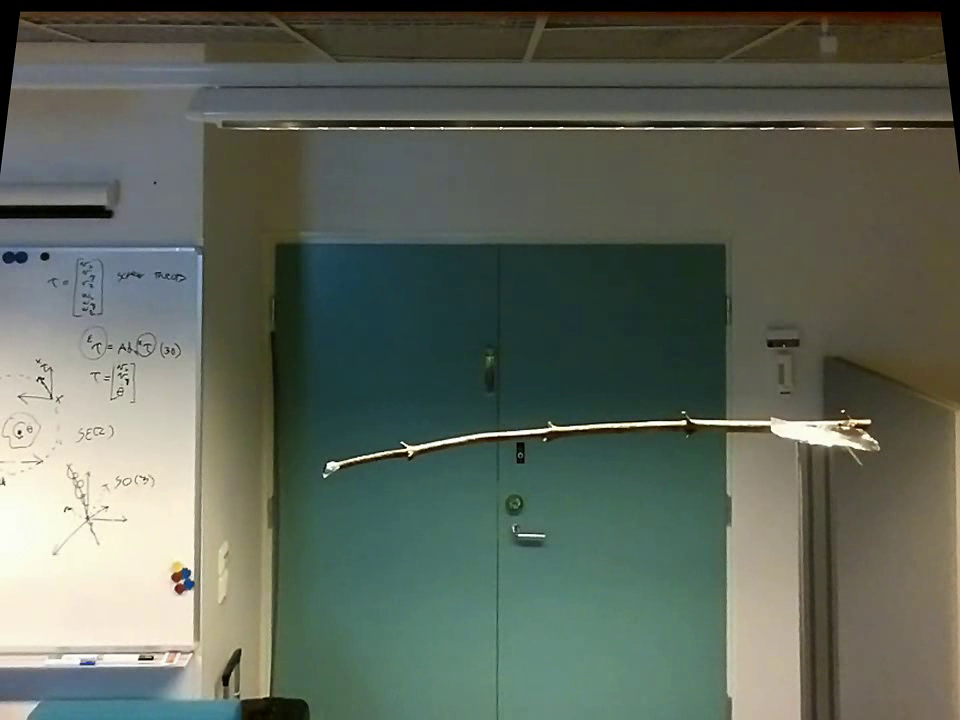aluminum_frame: (788, 442, 848, 718), (2, 634, 213, 675), (189, 244, 205, 653), (2, 241, 200, 257)
branch: (342, 400, 767, 489)
